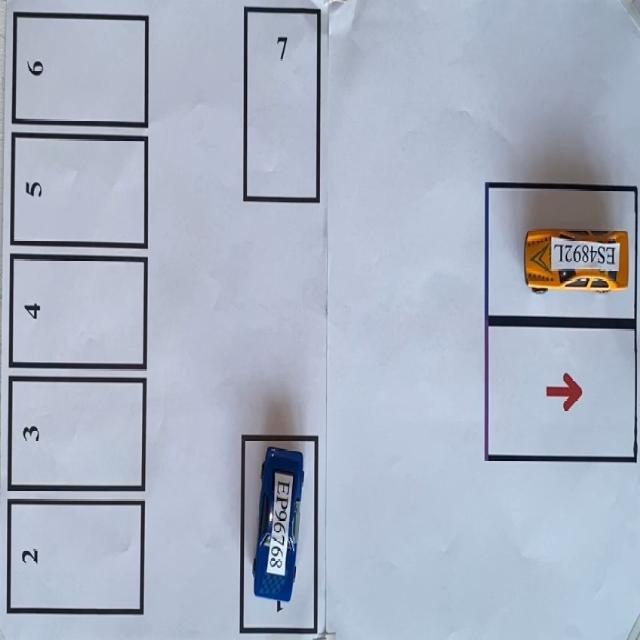car: (253, 447, 303, 610), (524, 229, 628, 292)
